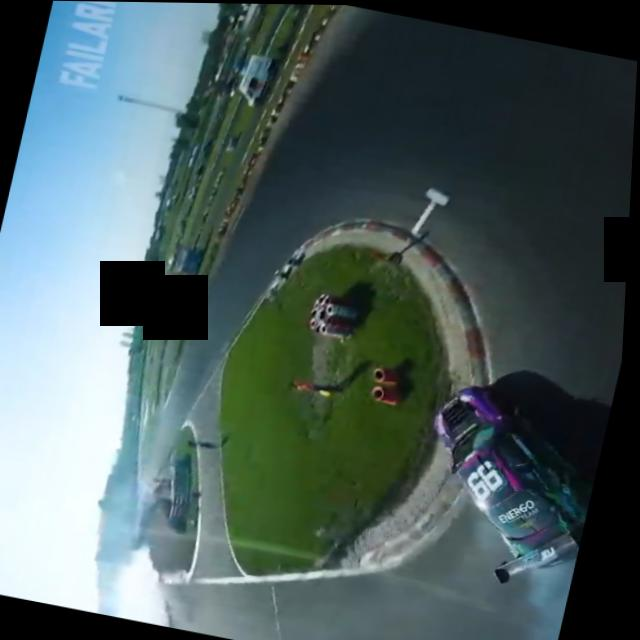Vehicle: (426, 373, 595, 580)
